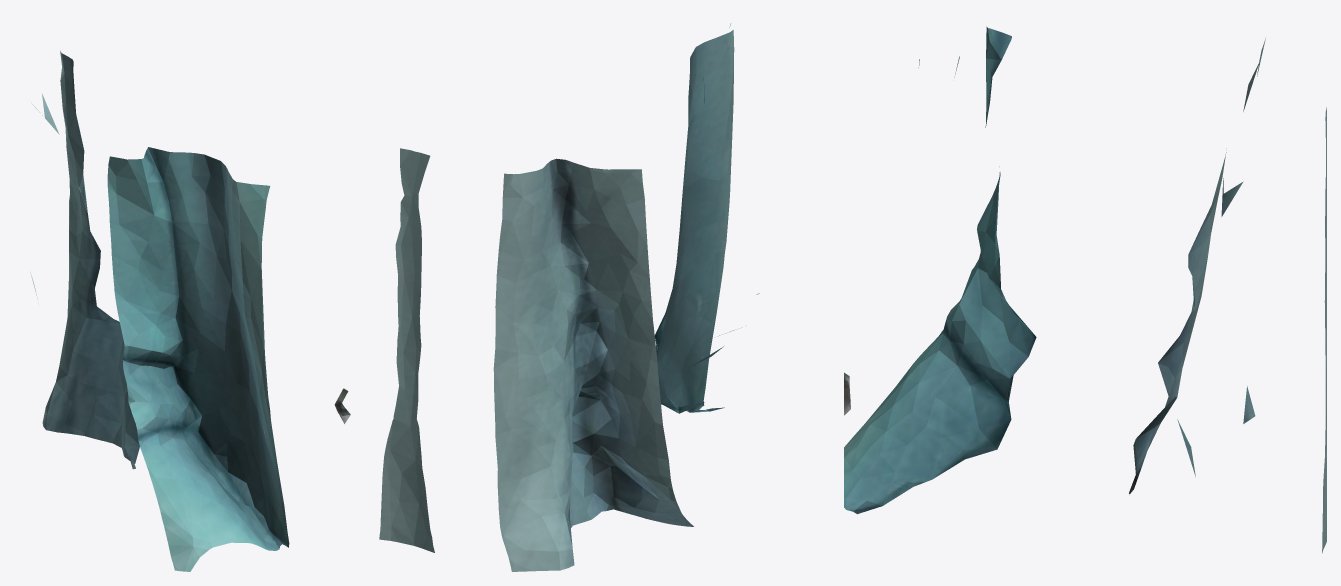
3 renders of one model, left to right at view 1: azimuth 30°, elevation 25°; view 2: azimuth 150°, elevation 25°; view 3: azimuth 270°, elevation 25°, orthographic. The views are drawn at different scales.
Size of the model in its own units: 101 by 171 by 171.
Materials: 1 (1 with a texture image).
